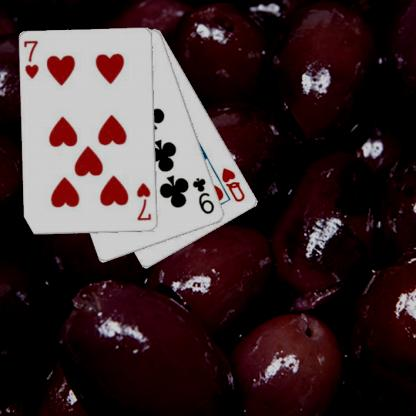7H: (134, 180, 152, 222), (22, 38, 40, 80)
9C: (190, 175, 216, 216)
QH: (219, 165, 247, 204)
